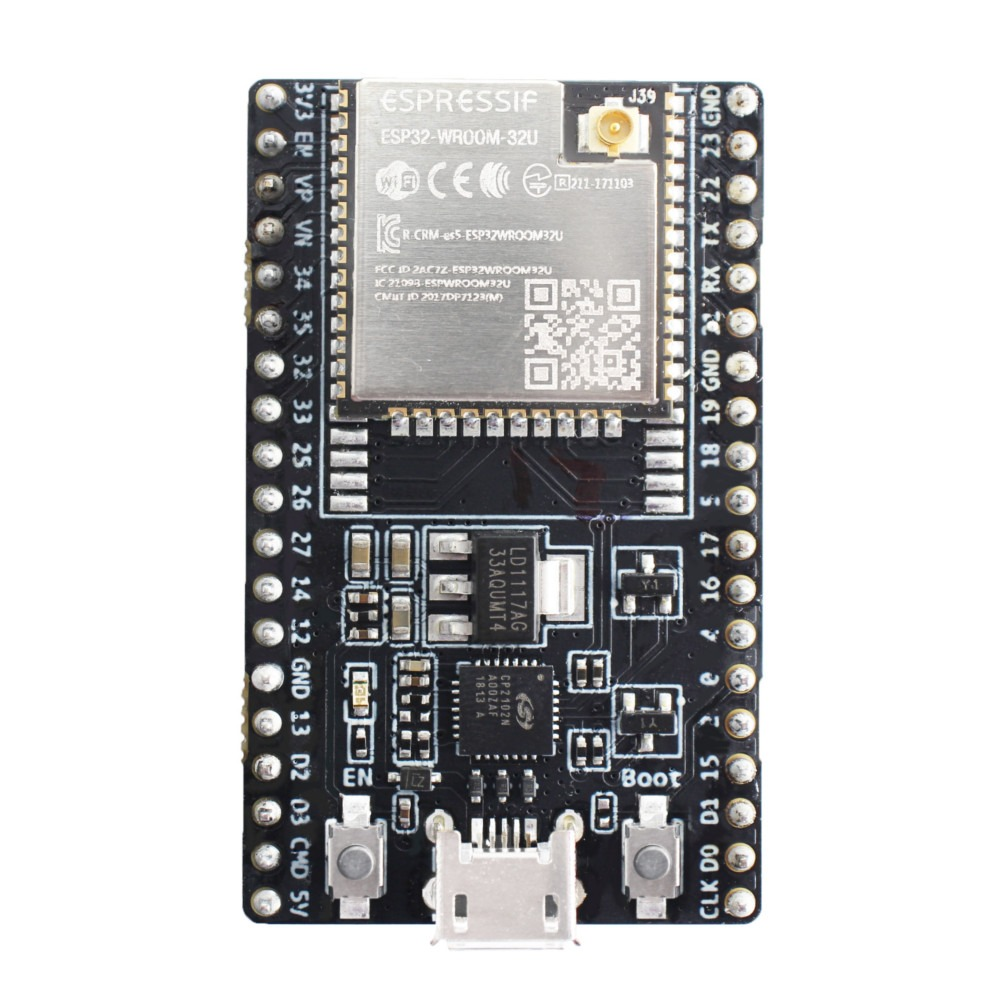ESP32-WROOM: (213, 57, 797, 967)
